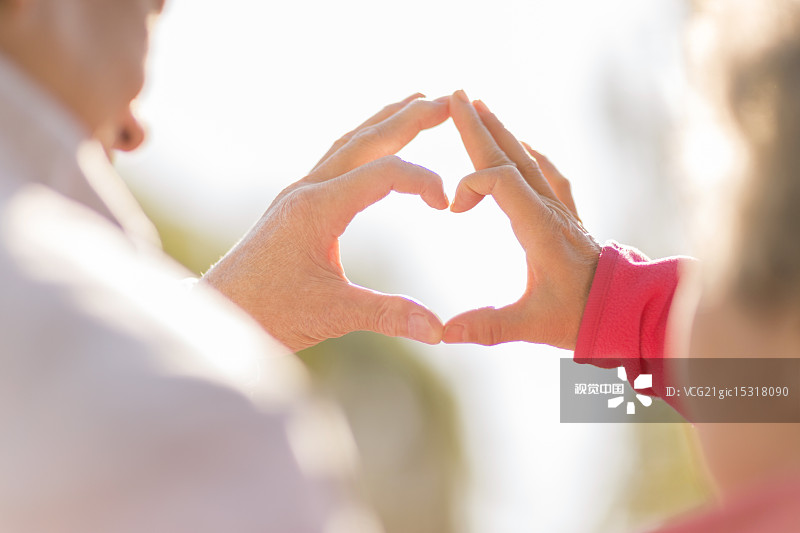no-phone: (209, 78, 466, 387), (441, 79, 640, 362)
